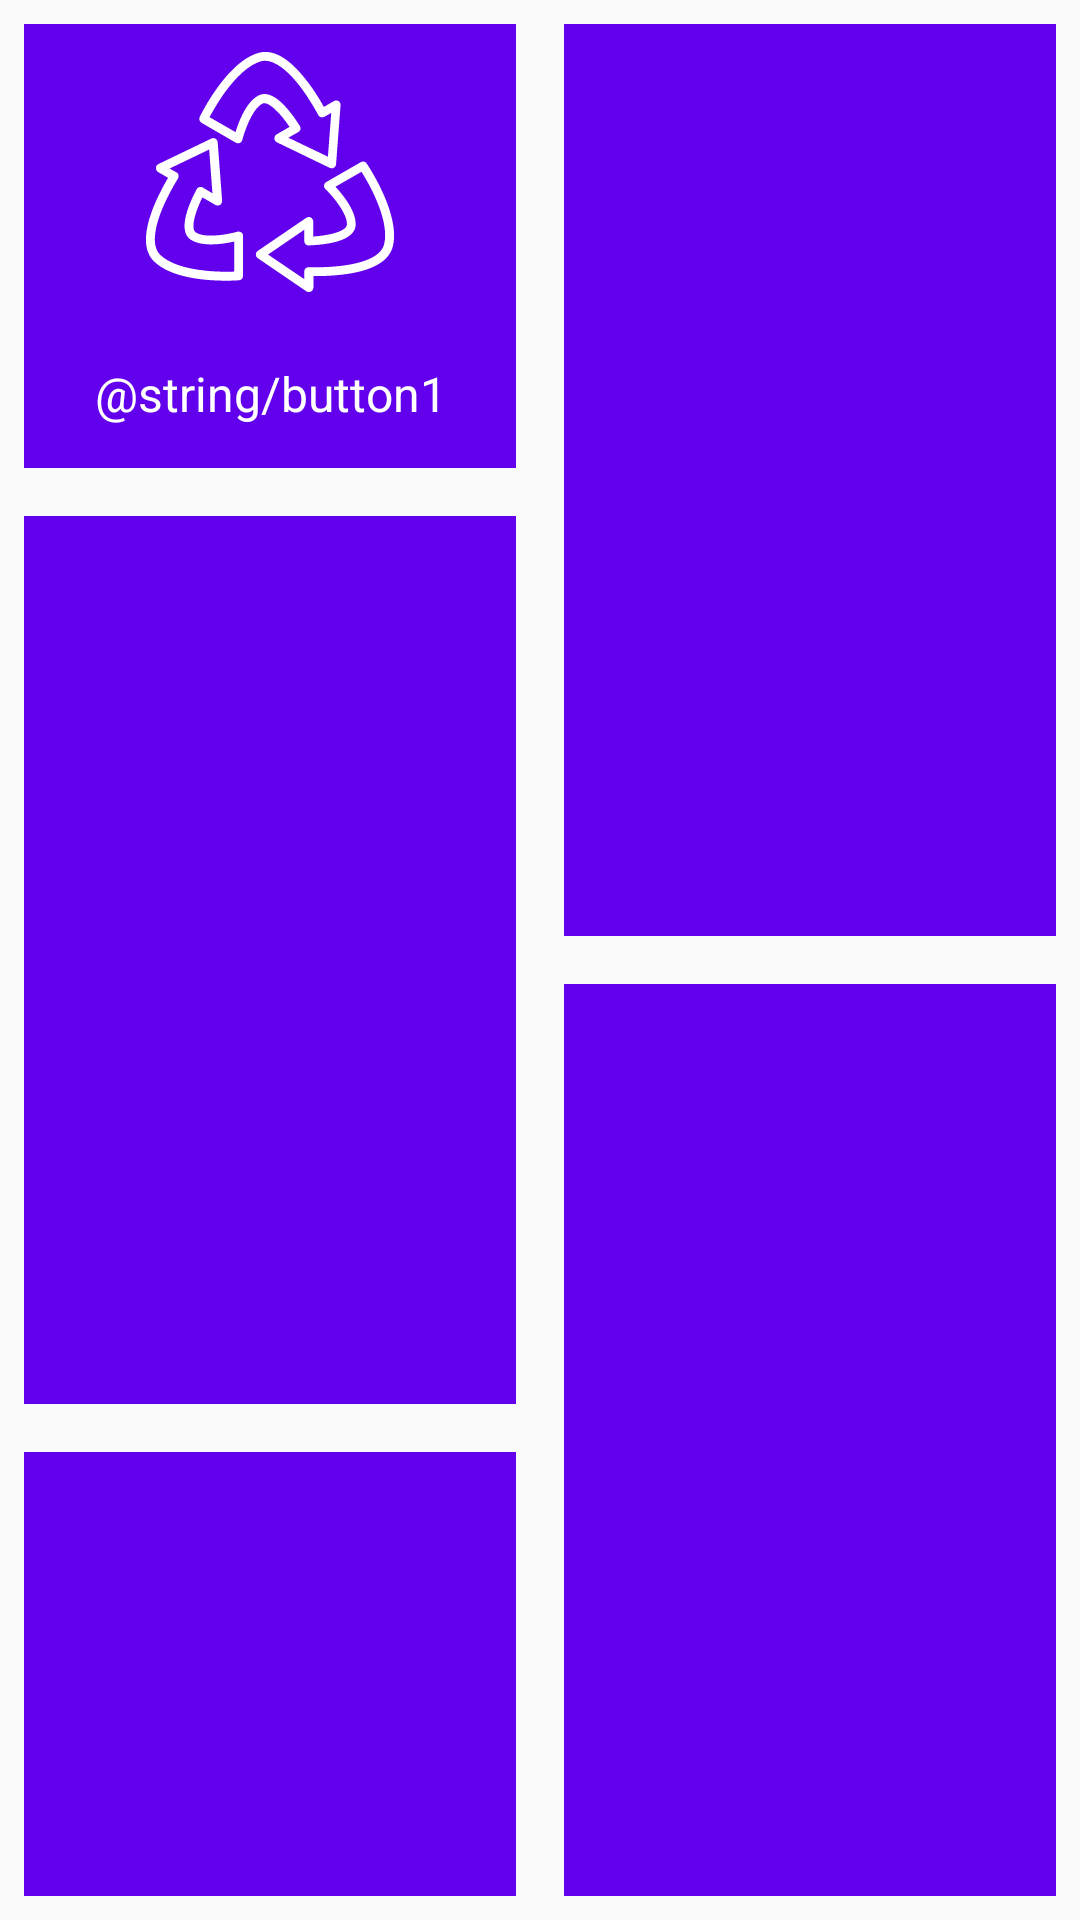

Icons on this 1080 × 1920 Android screen, each with the point to tap as (x=x, y=y):
recycle: (x=270, y=172)
